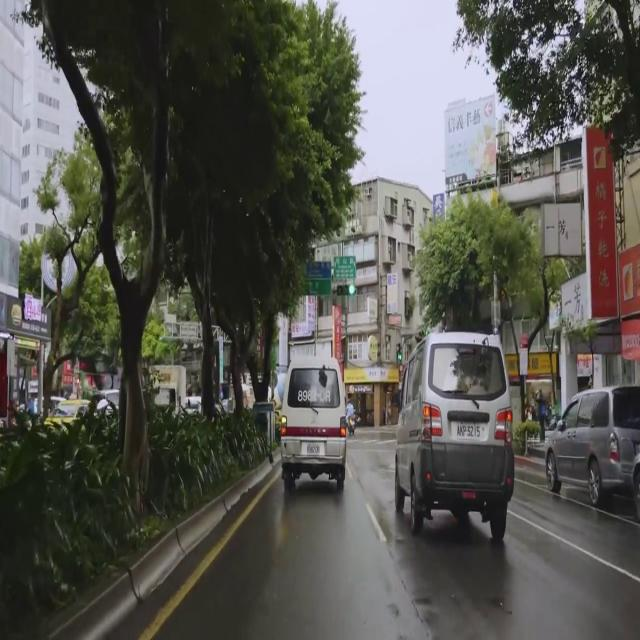green light: (335, 285, 356, 295)
